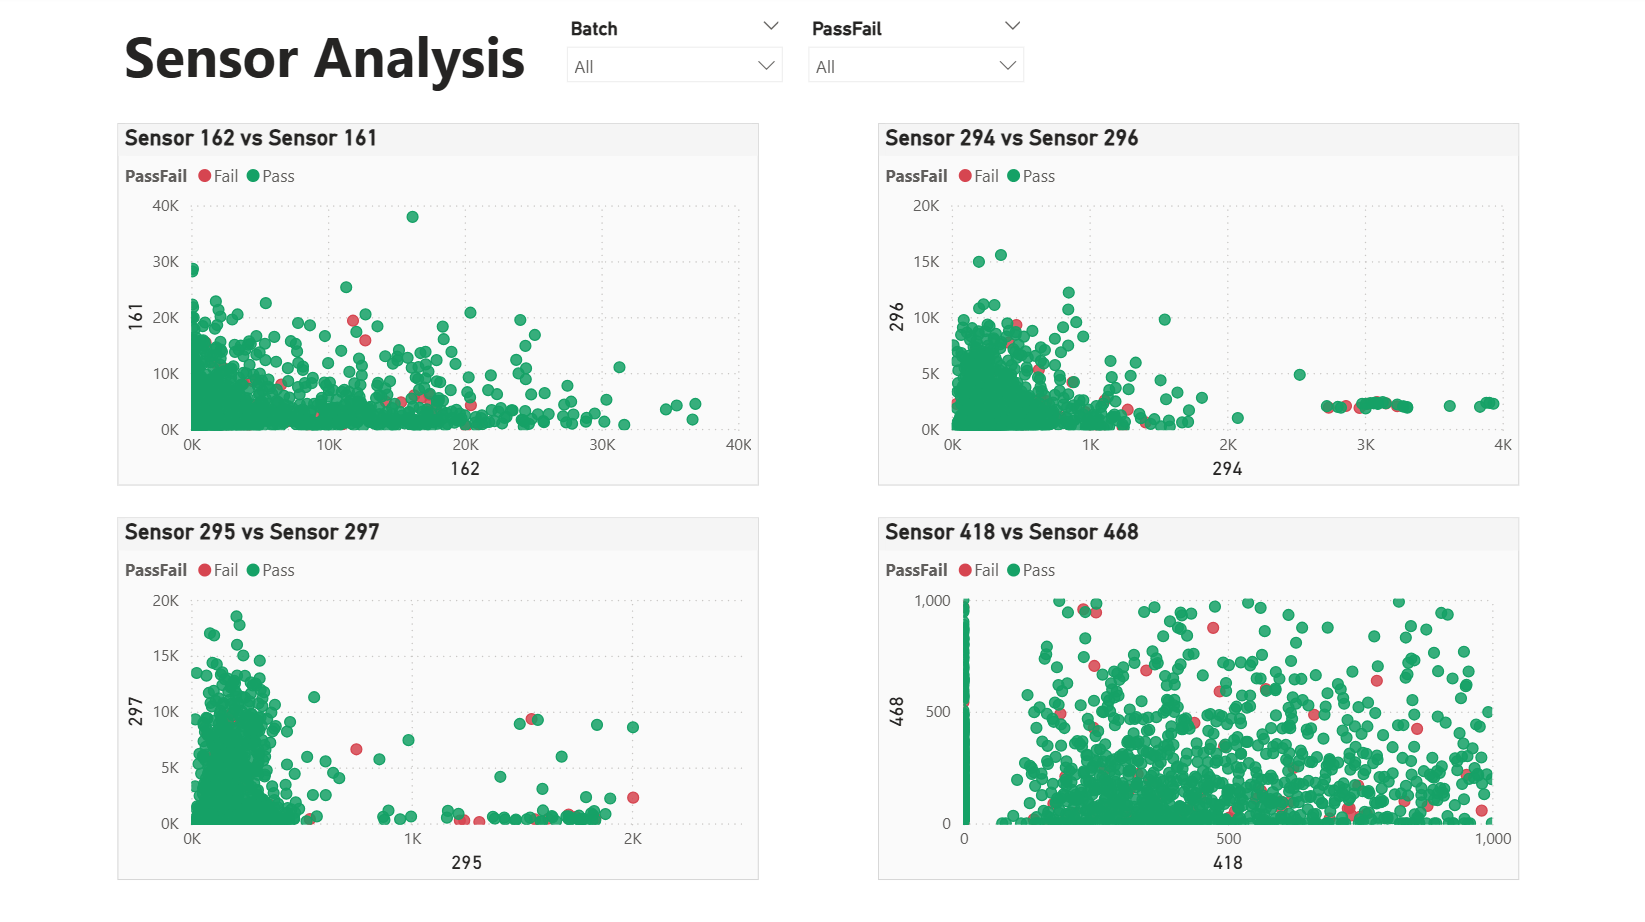

The dashboard page shown, as its layout file describes it:
{"tool":"powerbi","page":{"name":"Page 2","canvas":[1280,720],"ordinal":1},"visuals":[{"type":"textbox","box":[98.5,12.7,407.9,73],"z":0},{"type":"scatterChart","title":"Sensor 295 vs Sensor 297","fields":{"Series":["secom_cleaned.PassFail_Corrected"],"X":["secom_cleaned.295"],"Y":["secom_cleaned.297"]},"box":[98.3,404.4,495.5,280.3],"z":2000},{"type":"slicer","fields":{"Values":["secom_cleaned.PassFail_Corrected"]},"box":[622.3,12.7,186.6,99.7],"z":2500,"group":"g1"},{"type":"scatterChart","title":"Sensor 418 vs Sensor 468","fields":{"Series":["secom_cleaned.PassFail_Corrected"],"X":["secom_cleaned.418"],"Y":["secom_cleaned.468"]},"box":[685.8,404.2,495.5,280.3],"z":4000},{"type":"group","id":"g1","title":"Group 1","box":[435.7,12.7,373.1,99.7],"z":4500},{"type":"scatterChart","title":"Sensor 294 vs Sensor 296","fields":{"Series":["secom_cleaned.PassFail_Corrected"],"X":["secom_cleaned.294"],"Y":["secom_cleaned.296"]},"box":[685.8,99.7,495.5,280.3],"z":5000},{"type":"slicer","fields":{"Values":["secom_cleaned.Batch"]},"box":[435.7,12.7,186.6,99.7],"z":6000,"group":"g1"},{"type":"scatterChart","title":"Sensor 162 vs Sensor 161","fields":{"X":["secom_cleaned.162"],"Y":["secom_cleaned.161"],"Series":["secom_cleaned.PassFail_Corrected"]},"box":[98.3,99.9,495.5,280.3],"z":6500}]}

Visuals, with their boxes in screenshot pixels (x1, y1, x2, y2), scaled from the page's 1280x720 canvas onto the 1645x922 screenshot:
textbox: bbox=(127, 16, 651, 110)
"Sensor 295 vs Sensor 297" scatterChart: bbox=(126, 518, 763, 877)
slicer - secom_cleaned.PassFail_Corrected: bbox=(800, 16, 1040, 144)
"Sensor 418 vs Sensor 468" scatterChart: bbox=(881, 518, 1518, 877)
"Group 1" group: bbox=(560, 16, 1039, 144)
"Sensor 294 vs Sensor 296" scatterChart: bbox=(881, 128, 1518, 487)
slicer - secom_cleaned.Batch: bbox=(560, 16, 800, 144)
"Sensor 162 vs Sensor 161" scatterChart: bbox=(126, 128, 763, 487)
